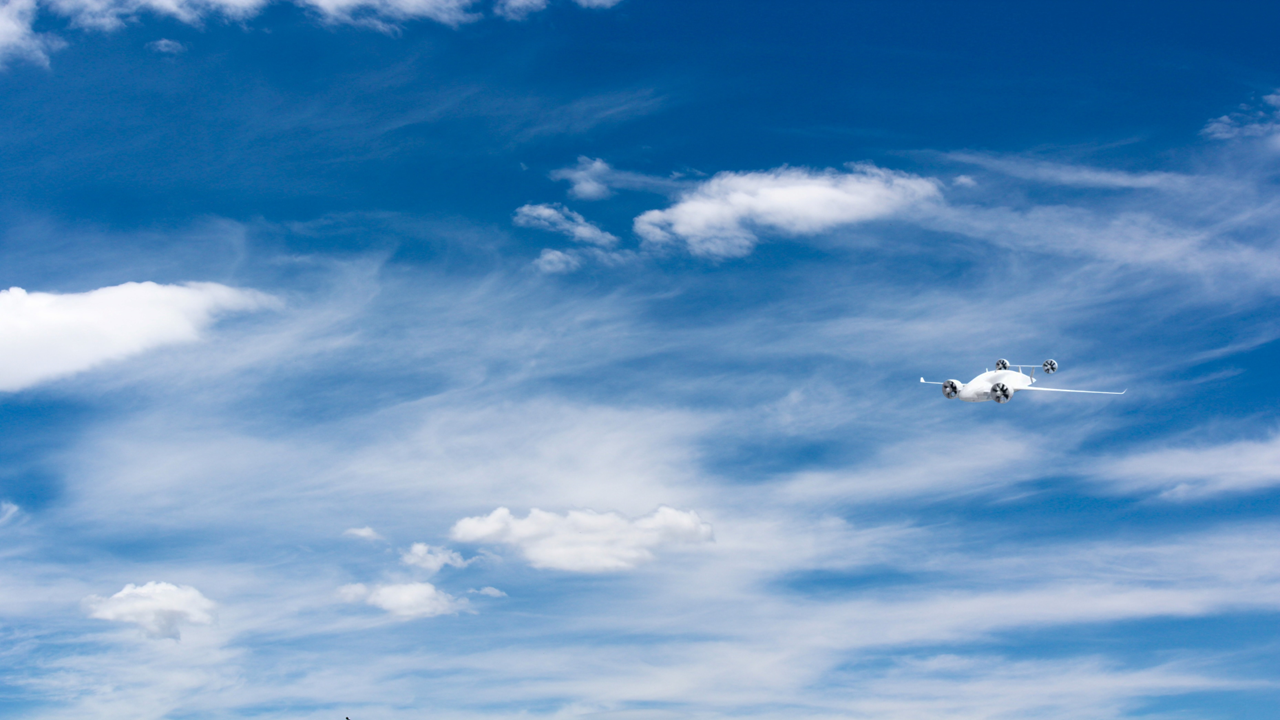military drone: (919, 357, 1127, 404)
